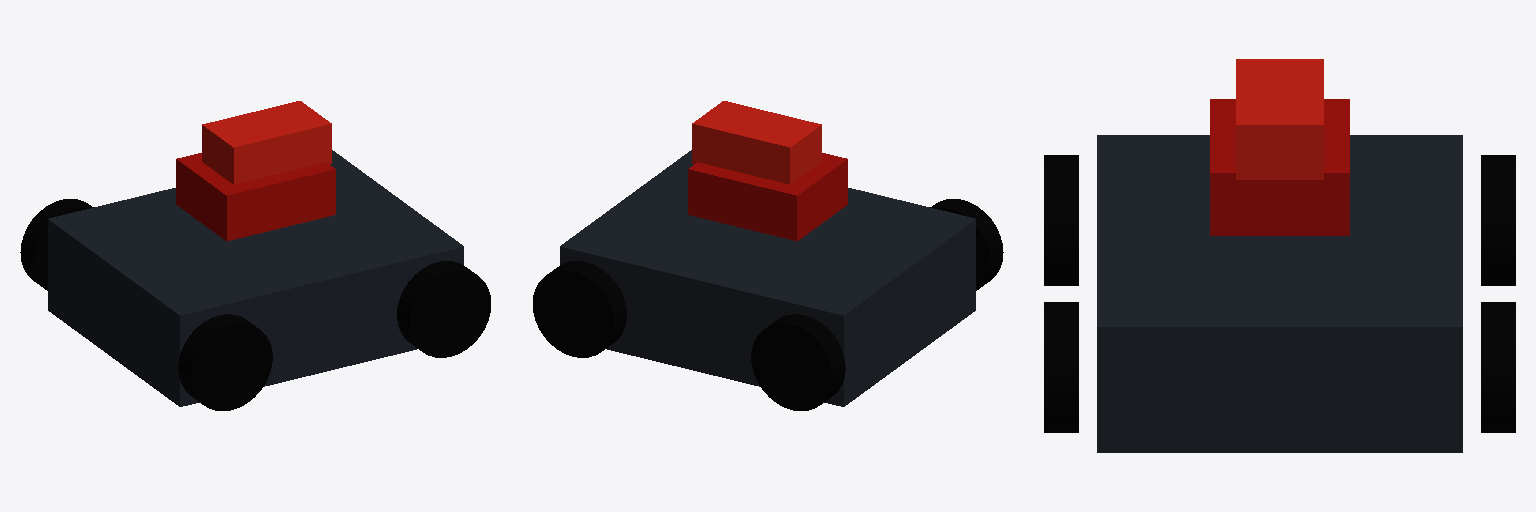
robot.urdf — sentry_omni:
<robot name="sentry_omni">
  <link name="base_link">
    <inertial>
      <mass value="15" />
      <inertia ixx="0.2525" iyy="0.37000000000000005" izz="0.5585" ixy="0" ixz="0" iyz="0" />
    </inertial>
    <visual>
      <geometry>
        <box size="0.52 0.42 0.16" />
      </geometry>
      <material>
        <color rgba="0.15 0.17 0.20 1" />
      </material>
    </visual>
    <collision>
      <geometry>
        <box size="0.52 0.42 0.16" />
      </geometry>
    </collision>
  </link>
  <link name="wheel_0_link">
    <inertial>
      <mass value="0.5" />
      <inertia ixx="0.0007697916666666666" iyy="0.0007697916666666666" izz="0.00140625" ixy="0" ixz="0" iyz="0" />
    </inertial>
    <visual>
      <geometry>
        <cylinder radius="0.075" length="0.04" />
      </geometry>
      <material>
        <color rgba="0.04 0.04 0.04 1" />
      </material>
    </visual>
    <collision>
      <geometry>
        <cylinder radius="0.075" length="0.04" />
      </geometry>
    </collision>
  </link>
  <joint name="wheel_0_joint" type="continuous">
    <parent link="base_link" />
    <child link="wheel_0_link" />
    <origin xyz="0.2 0.25 0" rpy="1.5707963267948966 0 0" />
    <axis xyz="0 0 1" />
    <limit effort="8" velocity="60" />
  </joint>
  <link name="wheel_1_link">
    <inertial>
      <mass value="0.5" />
      <inertia ixx="0.0007697916666666666" iyy="0.0007697916666666666" izz="0.00140625" ixy="0" ixz="0" iyz="0" />
    </inertial>
    <visual>
      <geometry>
        <cylinder radius="0.075" length="0.04" />
      </geometry>
      <material>
        <color rgba="0.04 0.04 0.04 1" />
      </material>
    </visual>
    <collision>
      <geometry>
        <cylinder radius="0.075" length="0.04" />
      </geometry>
    </collision>
  </link>
  <joint name="wheel_1_joint" type="continuous">
    <parent link="base_link" />
    <child link="wheel_1_link" />
    <origin xyz="0.2 -0.25 0" rpy="1.5707963267948966 0 0" />
    <axis xyz="0 0 1" />
    <limit effort="8" velocity="60" />
  </joint>
  <link name="wheel_2_link">
    <inertial>
      <mass value="0.5" />
      <inertia ixx="0.0007697916666666666" iyy="0.0007697916666666666" izz="0.00140625" ixy="0" ixz="0" iyz="0" />
    </inertial>
    <visual>
      <geometry>
        <cylinder radius="0.075" length="0.04" />
      </geometry>
      <material>
        <color rgba="0.04 0.04 0.04 1" />
      </material>
    </visual>
    <collision>
      <geometry>
        <cylinder radius="0.075" length="0.04" />
      </geometry>
    </collision>
  </link>
  <joint name="wheel_2_joint" type="continuous">
    <parent link="base_link" />
    <child link="wheel_2_link" />
    <origin xyz="-0.2 0.25 0" rpy="1.5707963267948966 0 0" />
    <axis xyz="0 0 1" />
    <limit effort="8" velocity="60" />
  </joint>
  <link name="wheel_3_link">
    <inertial>
      <mass value="0.5" />
      <inertia ixx="0.0007697916666666666" iyy="0.0007697916666666666" izz="0.00140625" ixy="0" ixz="0" iyz="0" />
    </inertial>
    <visual>
      <geometry>
        <cylinder radius="0.075" length="0.04" />
      </geometry>
      <material>
        <color rgba="0.04 0.04 0.04 1" />
      </material>
    </visual>
    <collision>
      <geometry>
        <cylinder radius="0.075" length="0.04" />
      </geometry>
    </collision>
  </link>
  <joint name="wheel_3_joint" type="continuous">
    <parent link="base_link" />
    <child link="wheel_3_link" />
    <origin xyz="-0.2 -0.25 0" rpy="1.5707963267948966 0 0" />
    <axis xyz="0 0 1" />
    <limit effort="8" velocity="60" />
  </joint>
  <link name="yaw_link">
    <inertial>
      <mass value="2" />
      <inertia ixx="0.005333333333333333" iyy="0.007733333333333335" izz="0.010933333333333335" ixy="0" ixz="0" iyz="0" />
    </inertial>
    <visual>
      <geometry>
        <box size="0.2 0.16 0.08" />
      </geometry>
      <material>
        <color rgba="0.65 0.08 0.06 1" />
      </material>
    </visual>
    <collision>
      <geometry>
        <box size="0.2 0.16 0.08" />
      </geometry>
    </collision>
  </link>
  <joint name="yaw_joint" type="continuous">
    <parent link="base_link" />
    <child link="yaw_link" />
    <origin xyz="0 0 0.16" rpy="0 0 0" />
    <axis xyz="0 0 1" />
    <limit effort="12" velocity="10" />
  </joint>
  <link name="pitch_link">
    <inertial>
      <mass value="1" />
      <inertia ixx="0.001241666666666667" iyy="0.003108333333333333" izz="0.003533333333333333" ixy="0" ixz="0" iyz="0" />
    </inertial>
    <visual>
      <geometry>
        <box size="0.18 0.1 0.07" />
      </geometry>
      <material>
        <color rgba="0.8 0.15 0.1 1" />
      </material>
    </visual>
    <collision>
      <geometry>
        <box size="0.18 0.1 0.07" />
      </geometry>
    </collision>
  </link>
  <joint name="pitch_joint" type="revolute">
    <parent link="yaw_link" />
    <child link="pitch_link" />
    <origin xyz="0.02 0 0.07" rpy="0 0 0" />
    <axis xyz="0 1 0" />
    <limit effort="5" velocity="6" lower="-0.5" upper="0.7" />
  </joint>
</robot>

--- Facts derived from the render (not from the file) ---
Views: 3 orthographic renders of the robot side by side, from view 1: azimuth 30°, elevation 25°; view 2: azimuth 150°, elevation 25°; view 3: azimuth 270°, elevation 25°.
Robot: sentry_omni — 7 links, 6 joints (1 revolute, 5 continuous); root link base_link; default pose: every joint at zero.
Visible links, largest first — view 1: base_link, yaw_link, pitch_link, wheel_1_link, wheel_3_link, wheel_2_link; view 2: base_link, yaw_link, pitch_link, wheel_0_link, wheel_2_link, wheel_3_link; view 3: base_link, yaw_link, pitch_link, wheel_0_link, wheel_1_link, wheel_2_link, wheel_3_link.
Link boxes in pixels (box(x1,y1,x2,y2)): base_link: box(48, 150, 463, 406); yaw_link: box(176, 153, 335, 240); pitch_link: box(202, 101, 331, 184); wheel_1_link: box(397, 261, 490, 357); wheel_3_link: box(178, 314, 272, 410); wheel_2_link: box(20, 199, 93, 290); base_link: box(560, 150, 975, 406); yaw_link: box(688, 153, 847, 240); pitch_link: box(692, 101, 821, 184); wheel_0_link: box(533, 261, 626, 357); wheel_2_link: box(751, 314, 845, 410); wheel_3_link: box(930, 199, 1003, 290); base_link: box(1097, 135, 1462, 452); yaw_link: box(1210, 99, 1349, 235); pitch_link: box(1236, 59, 1323, 179); wheel_0_link: box(1481, 302, 1515, 432); wheel_1_link: box(1044, 302, 1078, 432); wheel_2_link: box(1481, 155, 1515, 285); wheel_3_link: box(1044, 155, 1078, 285).
Bounding box of the posed robot: 0.55 × 0.54 × 0.345 m (x, y, z).
Geometry: primitives only (box / cylinder / sphere), no mesh files.
